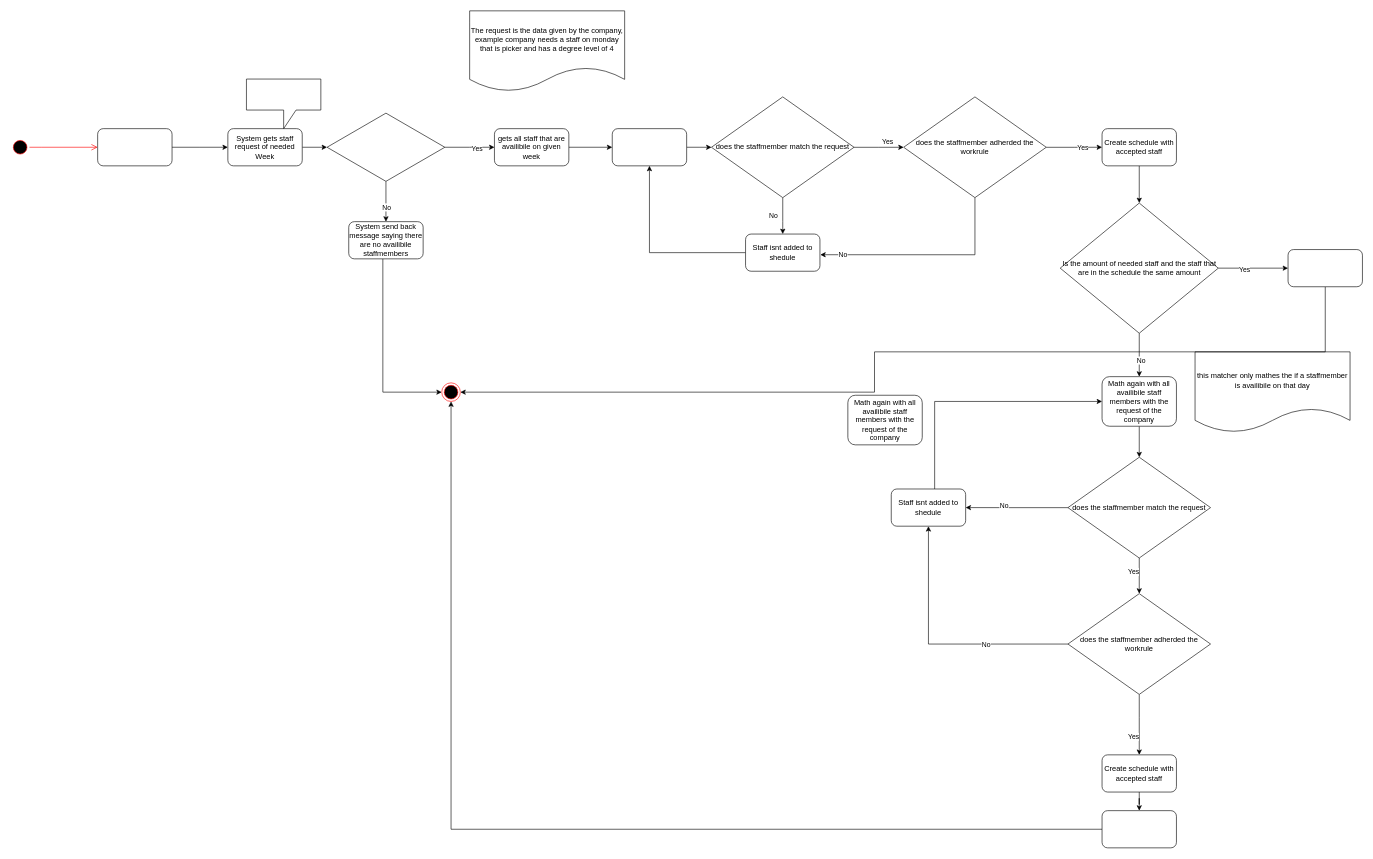
Some shapes in this 1373 by 859 pixel diagram are drawn without their labels. The centre of each missing label's shape, as x and y in pixels:
company excutes scheduleGenerator Trigger: (x=134, y=147)
match for each staffmember the request of the company: (x=649, y=147)
only send one shedule: (x=1324, y=268)
Send 2 schedules back: (x=1138, y=829)
system checks if their are staffmembers availible: (x=385, y=147)
the weeklyneed of the company: (x=283, y=103)
